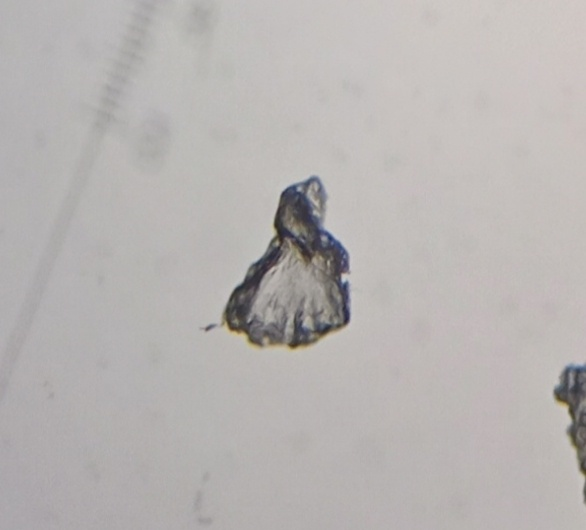microplastic: (214, 172, 367, 354)
